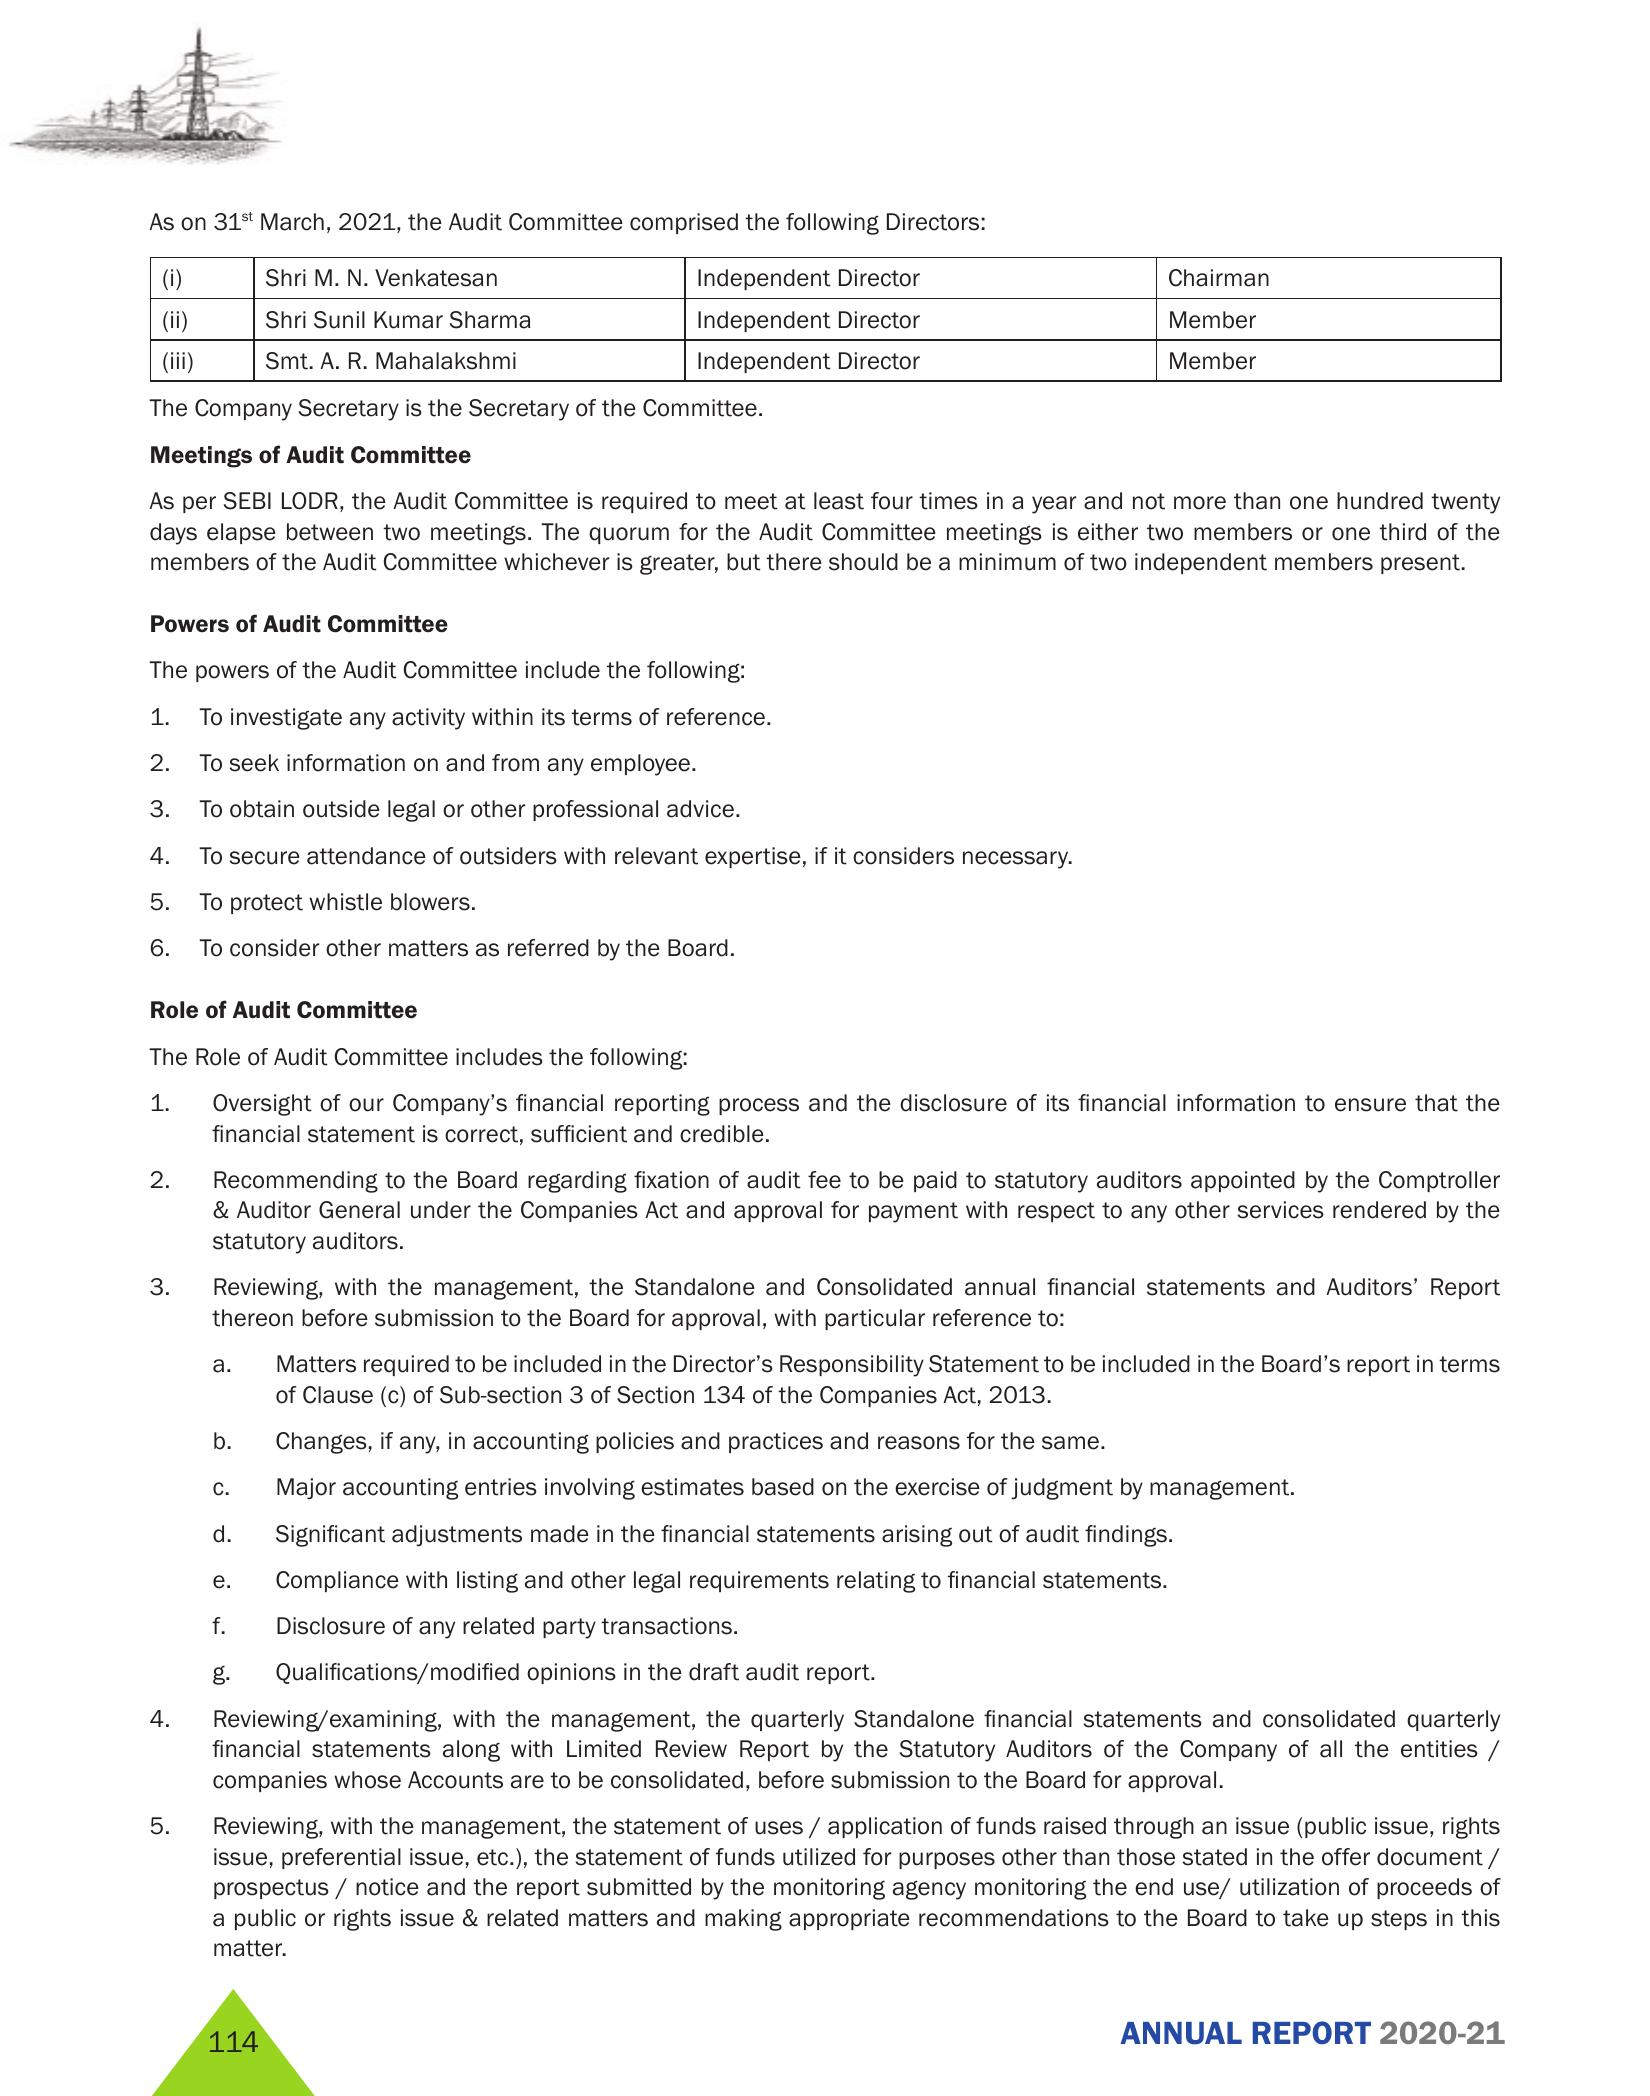Footer: (0, 1968, 1650, 2096)
Header: (0, 0, 1650, 175)
Table: (122, 236, 1539, 388)
